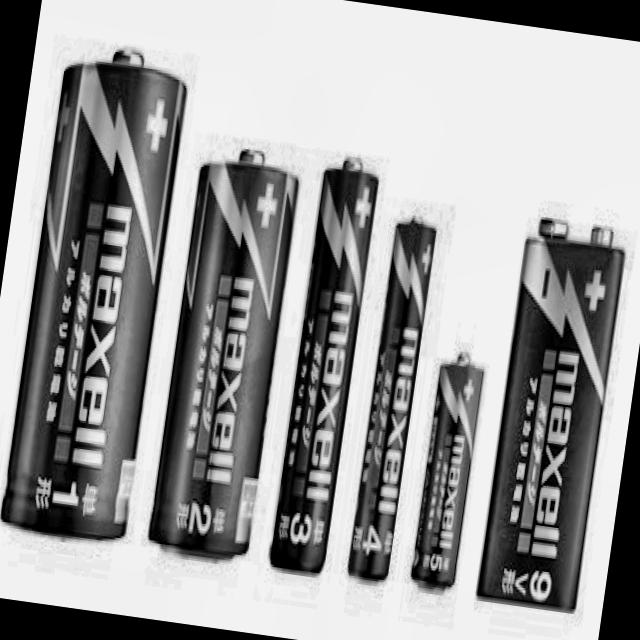drycell: (0, 28, 200, 554), (140, 133, 314, 586)
